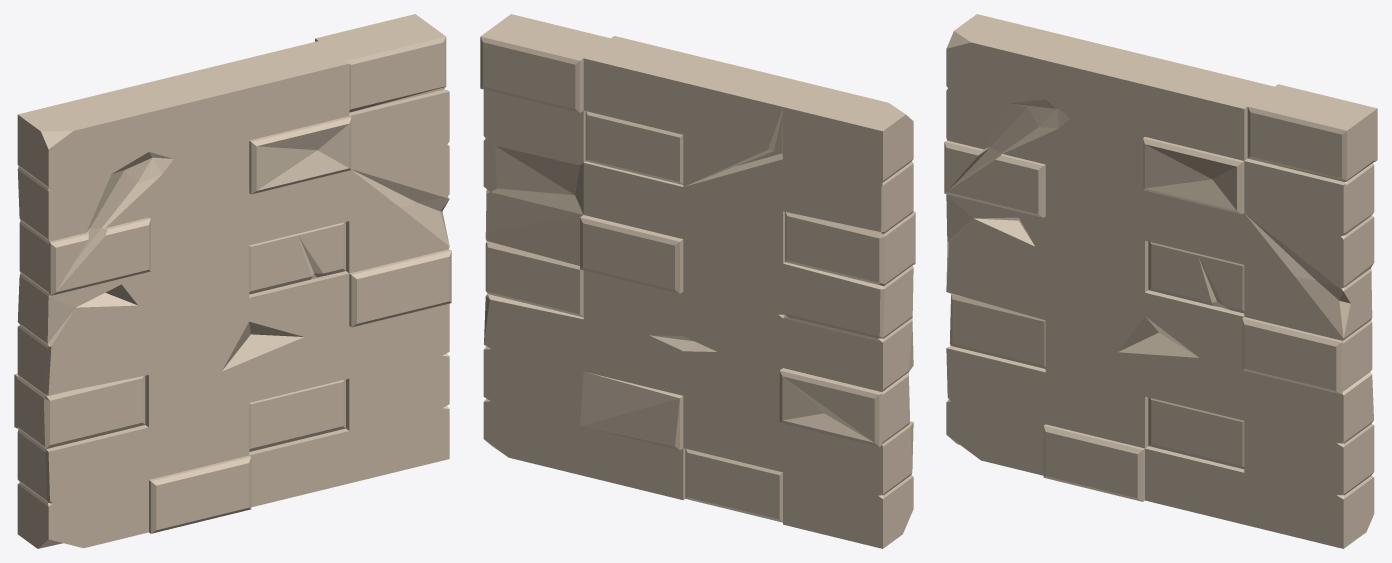
The model's file is Wall_002.fbx.
The picture shows the model from 3 angles, left to right: view 1: azimuth 30°, elevation 25°; view 2: azimuth 150°, elevation 25°; view 3: azimuth 330°, elevation 25°; orthographic projection.
Visible parts, largest first — view 1: Wall_002; view 2: Wall_002; view 3: Wall_002.
Boxes of the visible parts, x1=… form: Wall_002: x1=14, y1=14, x2=451, y2=548; Wall_002: x1=480, y1=14, x2=915, y2=548; Wall_002: x1=944, y1=14, x2=1377, y2=548.
Size of the model in its own units: 3 by 3 by 0.5073.
